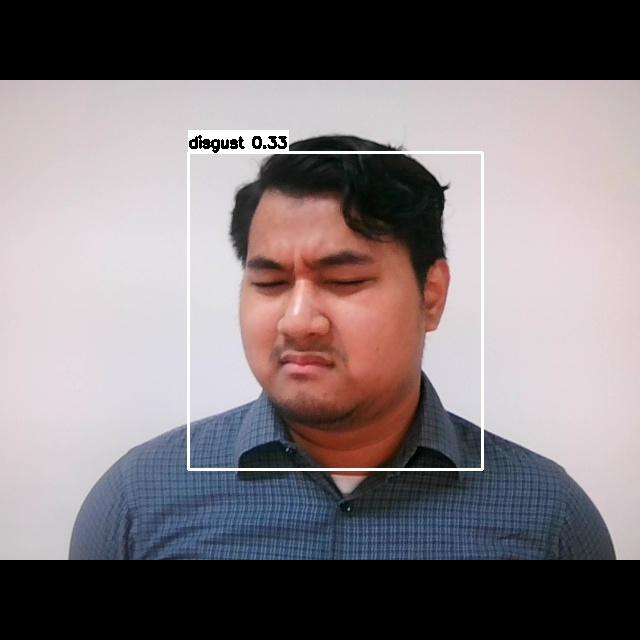Disgust: (235, 231, 423, 435)
